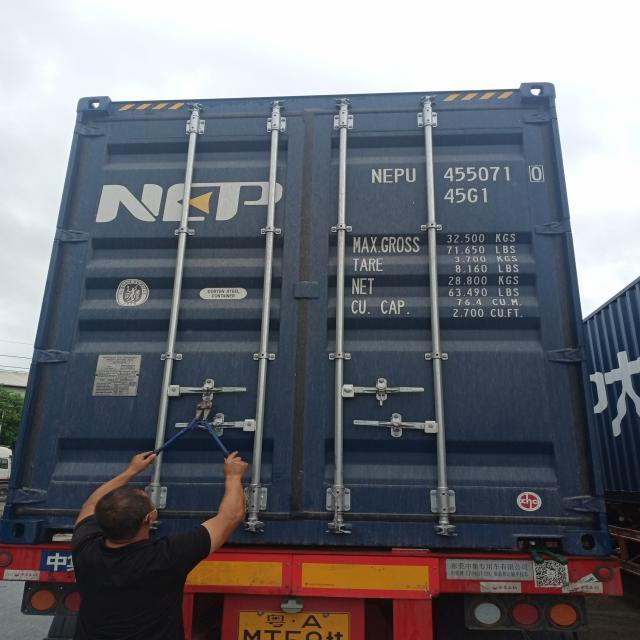ISO: (446, 188, 490, 206)
container_number: (373, 162, 543, 186)
